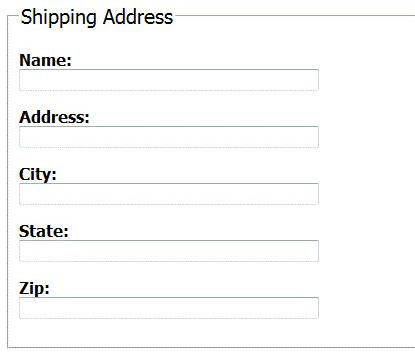field: (16, 67, 320, 93), (16, 181, 320, 206), (16, 295, 319, 320), (16, 239, 320, 263), (18, 125, 318, 149)
field_with_label: (13, 52, 321, 96), (15, 166, 322, 208), (17, 110, 320, 151), (14, 281, 321, 321), (15, 224, 321, 264)
